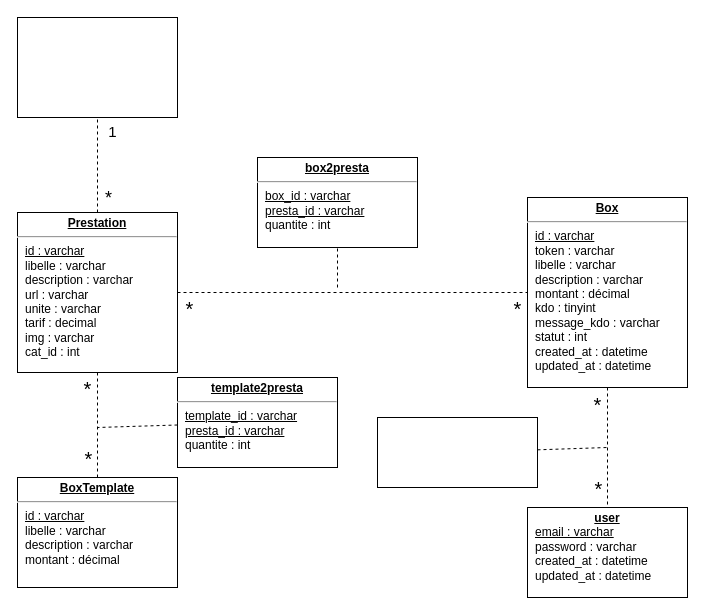
Some shapes in this 705 by 615 pixel diagram are drawn without their labels. Here are the shapes that lost their labels. From the top down, the centre of each, then its label:
(97,67): Categorie id : varchar libelle : varchar description : text
(457,452): box2user box_id : varchar user_id : varchar
